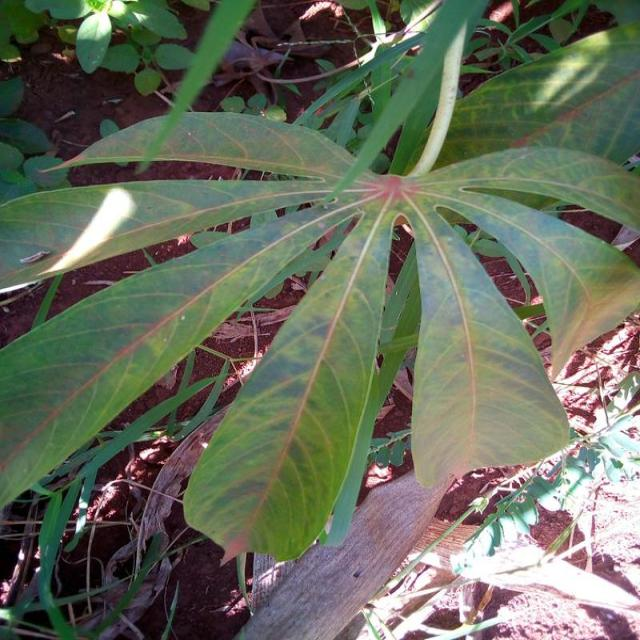cassava leaf: (0, 2, 638, 572), (181, 198, 396, 566)
